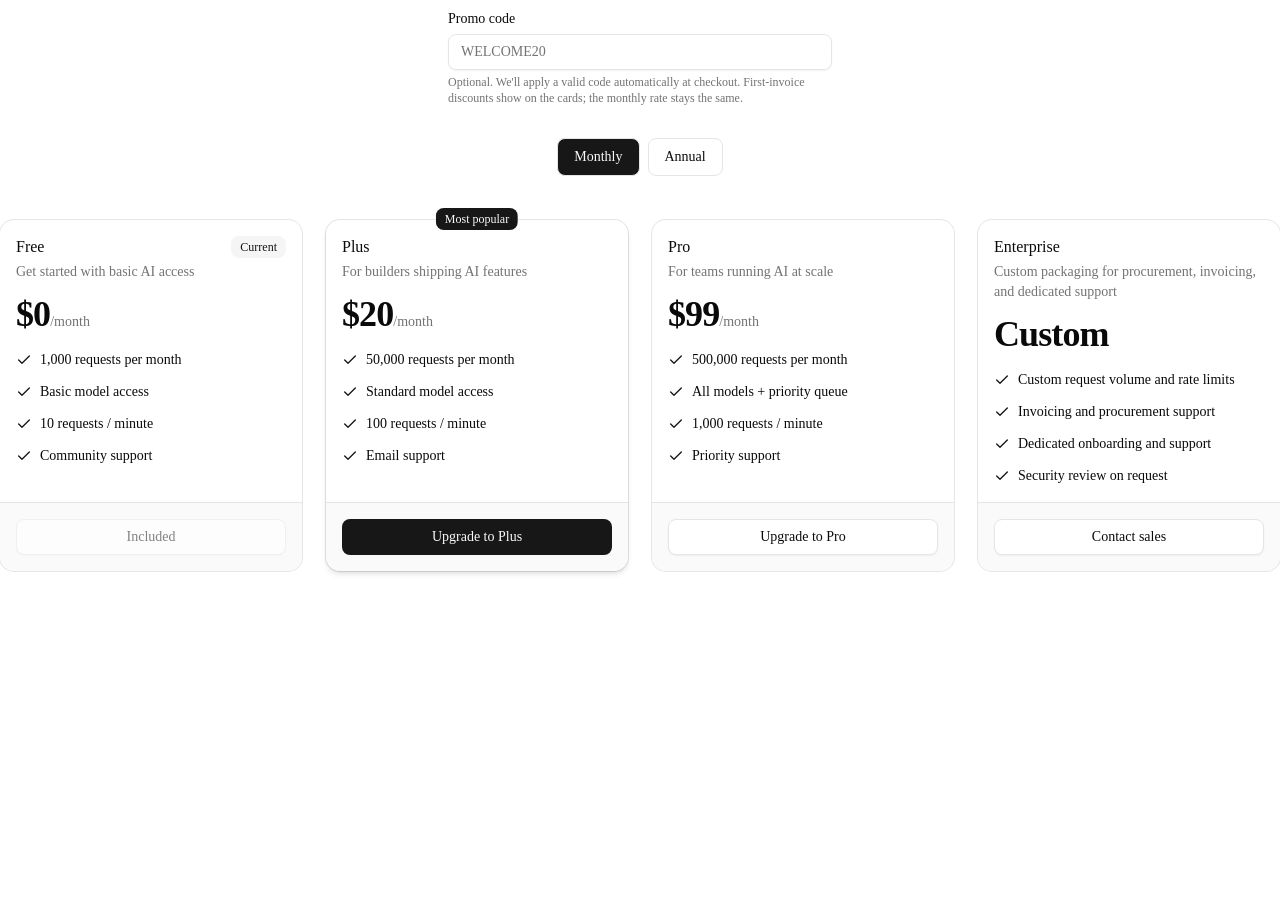
PricingPageClient › shows the error banner on an invalid promo and keeps the code
Type "NOPE" into the field with test id "promo-code" at x=640, y=52, box [448,34,832,70]
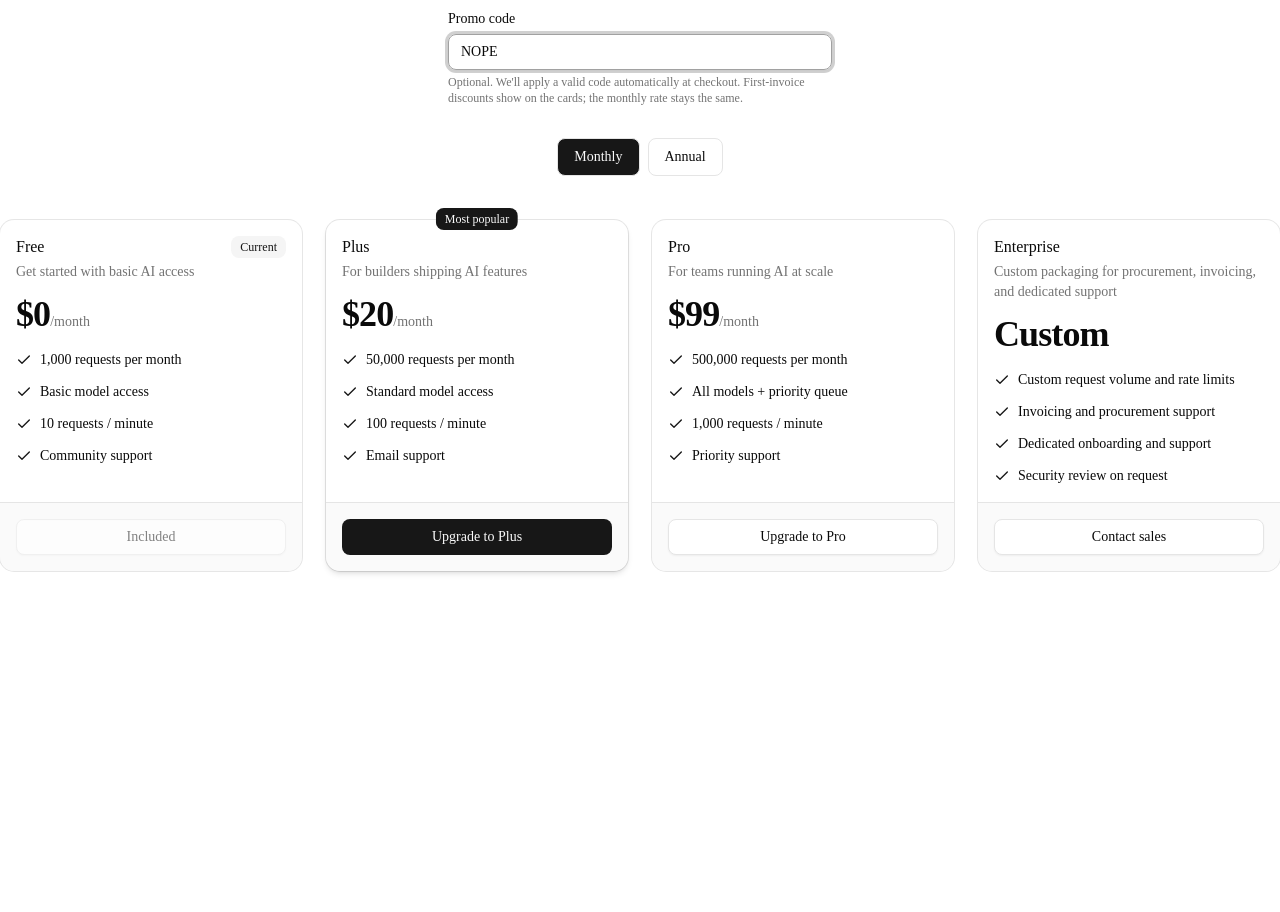
Click the button "Upgrade to Plus" at x=477, y=537, box [342,519,612,555]
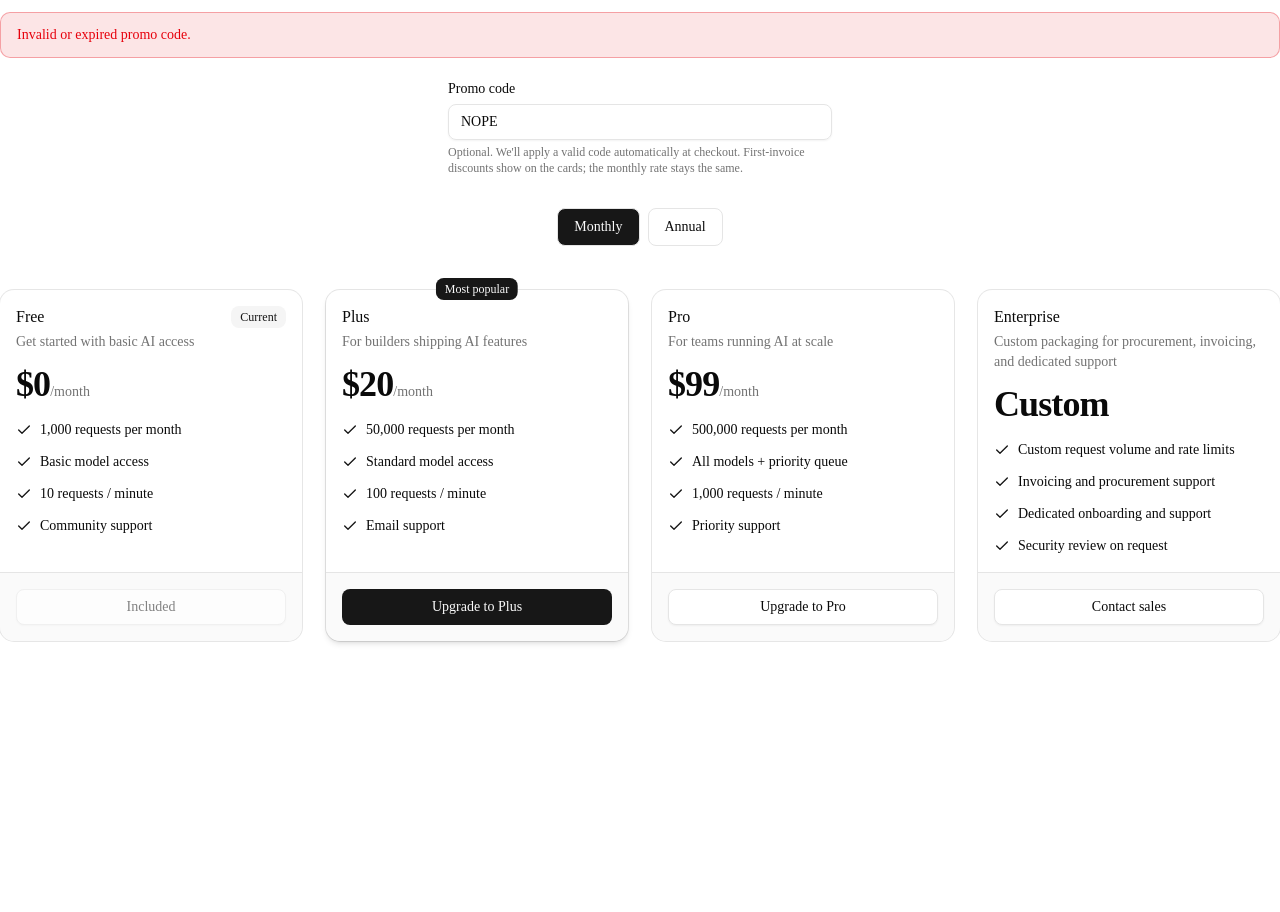
expect the message with test id "checkout-error" reads "Invalid or expired promo code.": met, box [17,27,191,42]
